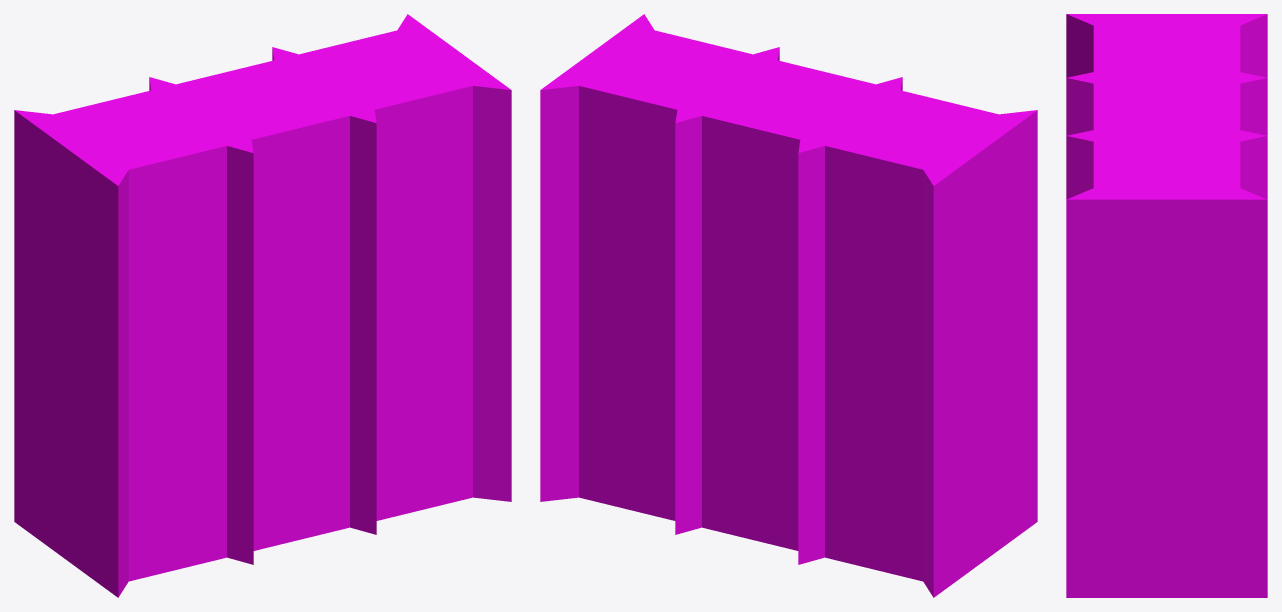
The model's file is conveyor_elevator.obj.
3 renders of one model, left to right at view 1: azimuth 30°, elevation 25°; view 2: azimuth 150°, elevation 25°; view 3: azimuth 270°, elevation 25°, orthographic. The views are drawn at different scales.
Parts seen in each view (by area): view 1: SieveChute_cscmdl; view 2: SieveChute_cscmdl; view 3: SieveChute_cscmdl.
Boxes of the visible parts, x1,y1,x2,y2 form: SieveChute_cscmdl: (14,14,511,597); SieveChute_cscmdl: (540,14,1037,597); SieveChute_cscmdl: (1066,14,1267,597).
Bounding box in the file's own units: 1 × 1 × 0.4583.
